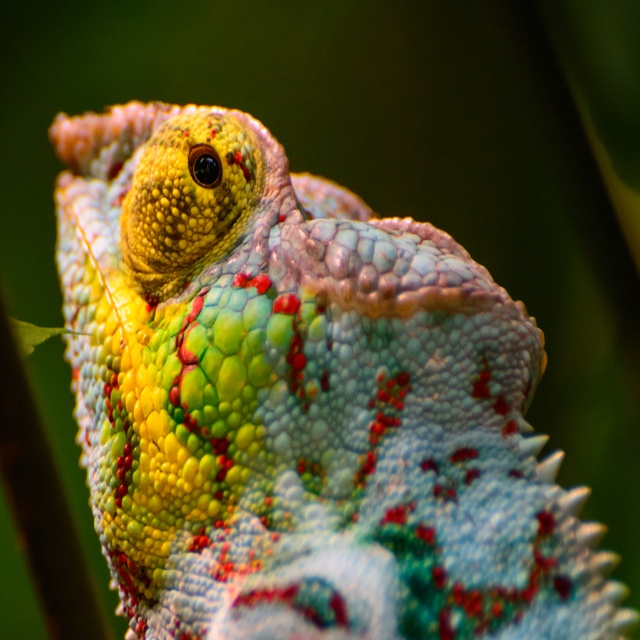Lizard: (48, 91, 638, 639)
